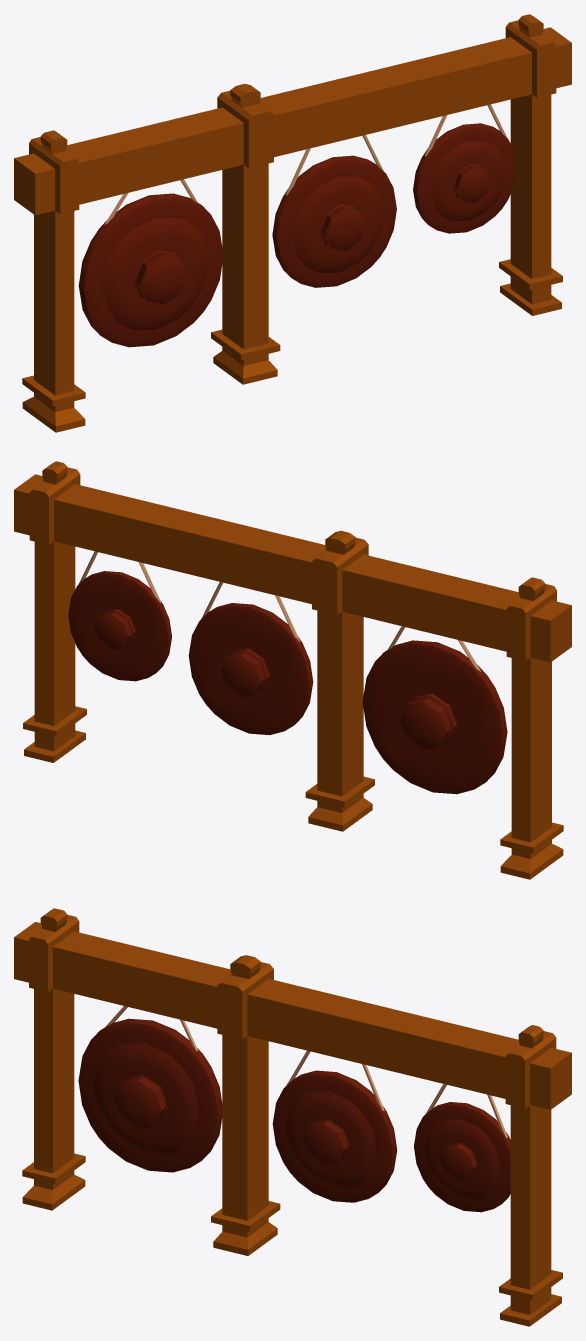
The model's file is Gong_IkhtiaraFakhrunisa[1].fbx.
3 views of the same model, one above another, from view 1: azimuth 30°, elevation 25°; view 2: azimuth 150°, elevation 25°; view 3: azimuth 330°, elevation 25° (orthographic).
Parts seen in each view (by area): view 1: Cube.001, Plane, Plane.001, Plane.002; view 2: Cube.001, Plane, Plane.001, Plane.002; view 3: Cube.001, Plane, Plane.001, Plane.002.
Part boxes in pixels (left/top/right/bottom): Cube.001: left=14, top=14, right=571, bottom=432; Plane: left=78, top=193, right=223, bottom=347; Plane.001: left=272, top=155, right=396, bottom=287; Plane.002: left=413, top=123, right=516, bottom=233; Cube.001: left=14, top=461, right=571, bottom=879; Plane: left=362, top=640, right=507, bottom=794; Plane.001: left=188, top=603, right=313, bottom=735; Plane.002: left=68, top=571, right=171, bottom=681; Cube.001: left=14, top=908, right=571, bottom=1326; Plane: left=78, top=1018, right=222, bottom=1172; Plane.001: left=272, top=1070, right=397, bottom=1202; Plane.002: left=414, top=1102, right=510, bottom=1212.
Size of the model in its own units: 820 by 411 by 88.05.
